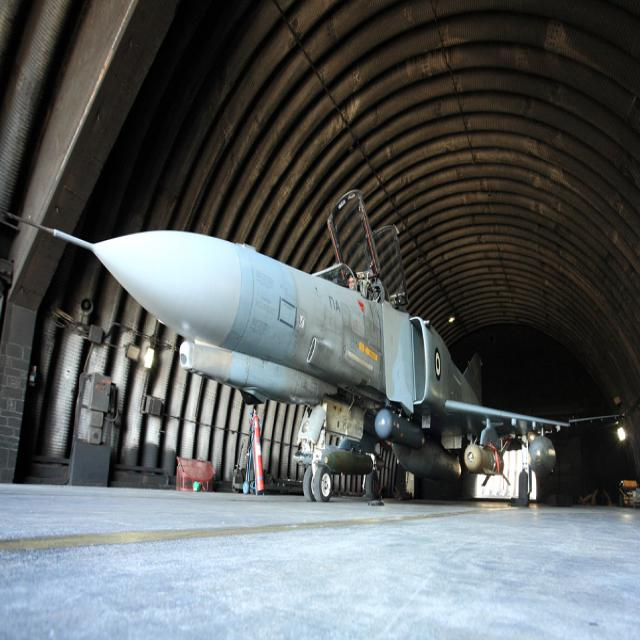MIL_Plane: (1, 188, 624, 506)
